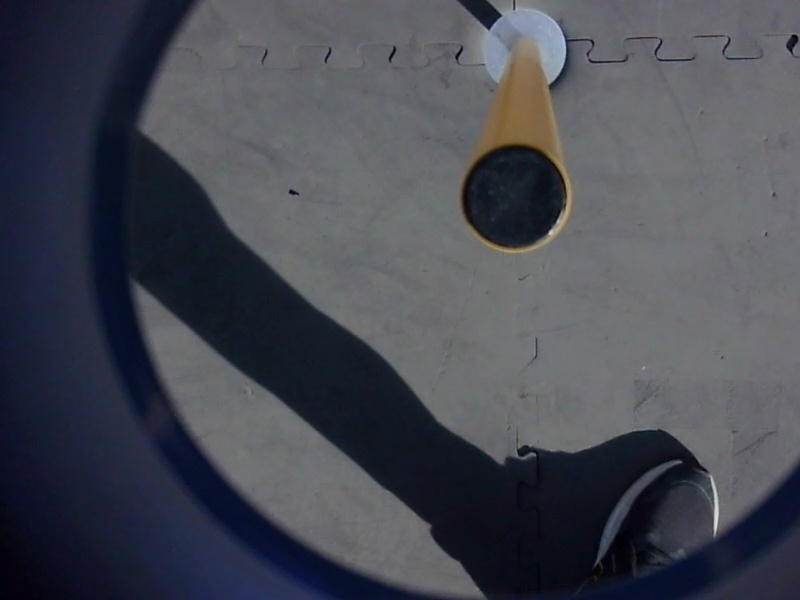tip: (451, 137, 580, 265)
